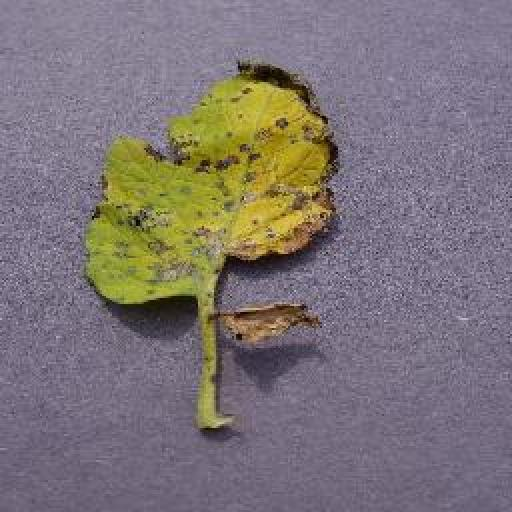disease_tomato: (82, 58, 340, 310)
